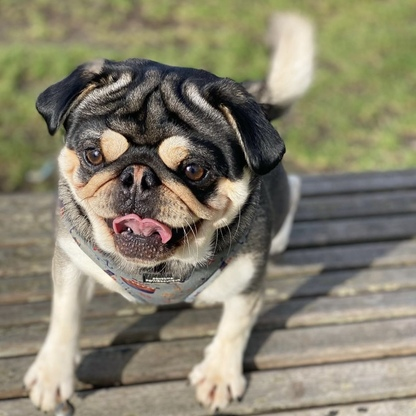Pug: (16, 6, 322, 416)
